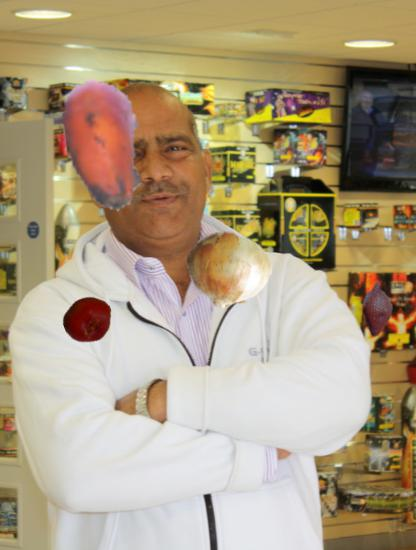Banana: (30, 78, 168, 216)
Nectarine: (63, 295, 114, 346)
Onion: (187, 228, 272, 313)
Salak: (349, 280, 406, 337)
